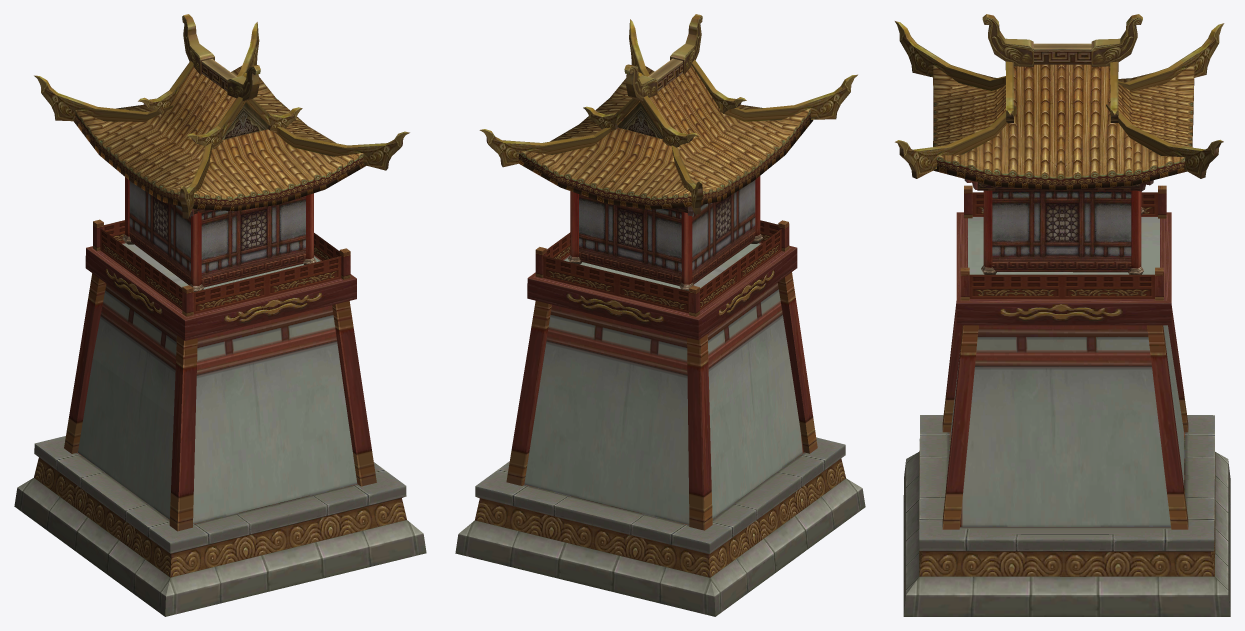
File: Yland1_t_04 Yland1.FBX
The picture shows the model from 3 angles, left to right: view 1: azimuth 30°, elevation 25°; view 2: azimuth 150°, elevation 25°; view 3: azimuth 270°, elevation 25°; orthographic projection. The views are drawn at different scales.
Parts seen in each view (by area): view 1: Yland1_t_04 Yland1; view 2: Yland1_t_04 Yland1; view 3: Yland1_t_04 Yland1.
Part boxes in pixels (bbox=[...]): Yland1_t_04 Yland1: bbox=[14, 14, 426, 616]; Yland1_t_04 Yland1: bbox=[455, 14, 865, 616]; Yland1_t_04 Yland1: bbox=[895, 14, 1230, 616].
Size of the model in its own units: 5.04 by 9.05 by 5.18.
